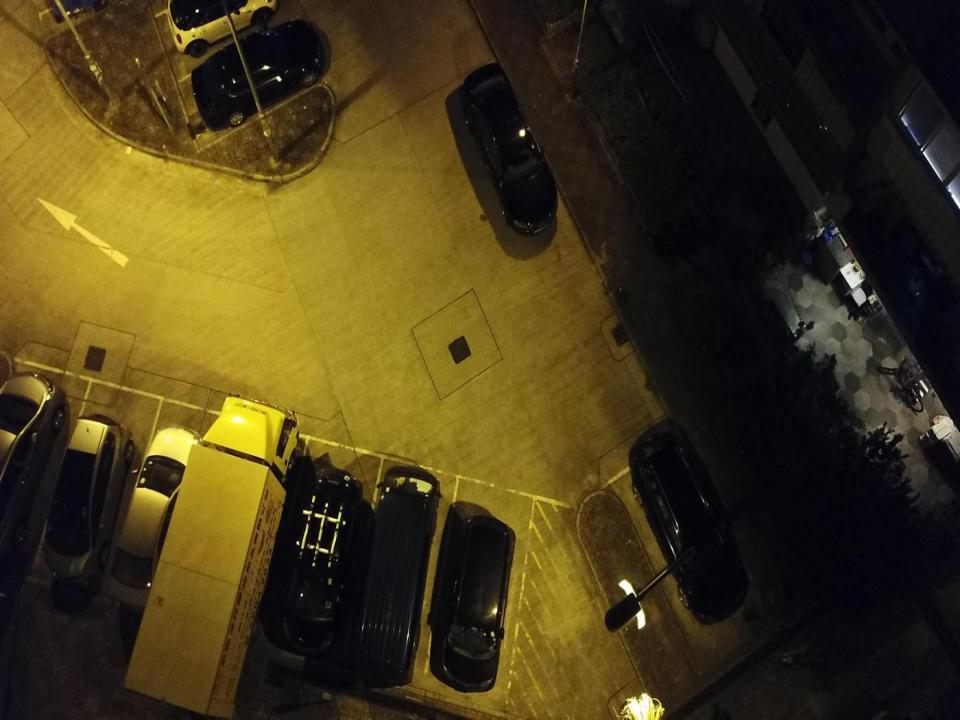car: (629, 432, 747, 624), (104, 423, 205, 609), (462, 62, 559, 236), (41, 413, 136, 586), (280, 464, 364, 655), (191, 16, 326, 130), (441, 515, 516, 693), (0, 369, 65, 562), (166, 0, 277, 58)
truck: (122, 395, 300, 719)
van: (356, 465, 442, 687)
